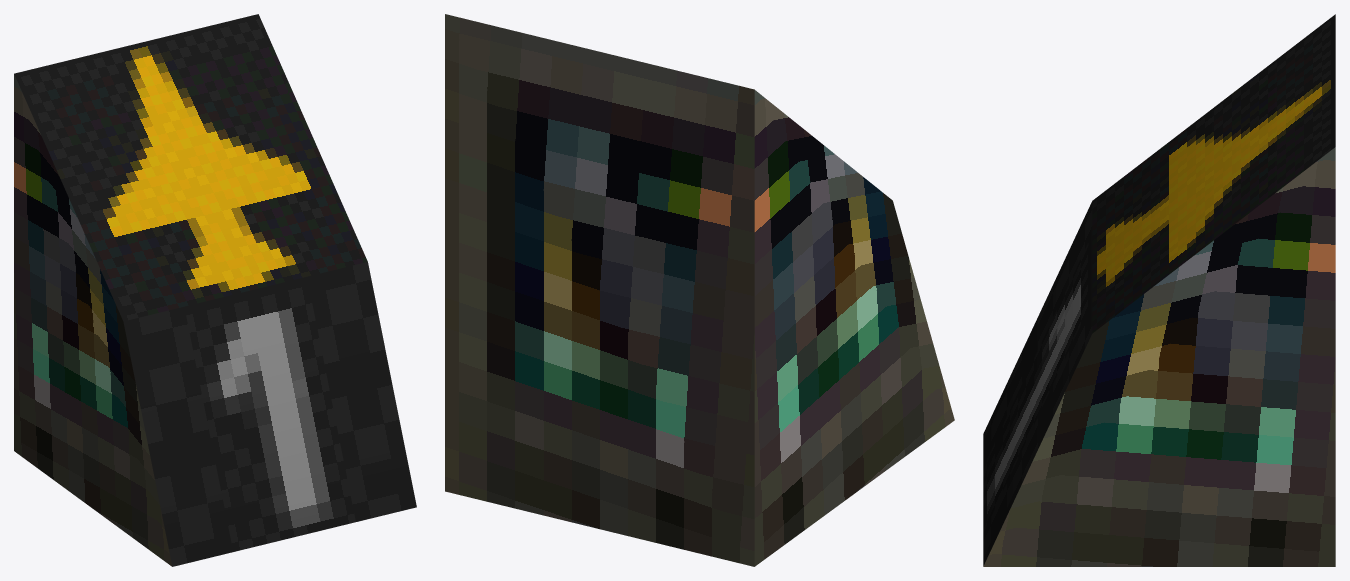
The picture shows the model from 3 angles, left to right: view 1: azimuth 30°, elevation 25°; view 2: azimuth 150°, elevation 25°; view 3: azimuth 270°, elevation 25°; orthographic projection. The views are drawn at different scales.
Parts seen in each view (by area): view 1: Ovmp_obj_039; view 2: Ovmp_obj_039; view 3: Ovmp_obj_039.
Part boxes in pixels (x1,y1,x2,y2): Ovmp_obj_039: (14,14,416,566); Ovmp_obj_039: (445,14,954,566); Ovmp_obj_039: (983,14,1335,566).
Size of the model in its own units: 0.6582 by 0.9707 by 0.7383.
Materials: 2 (2 with a texture image).
